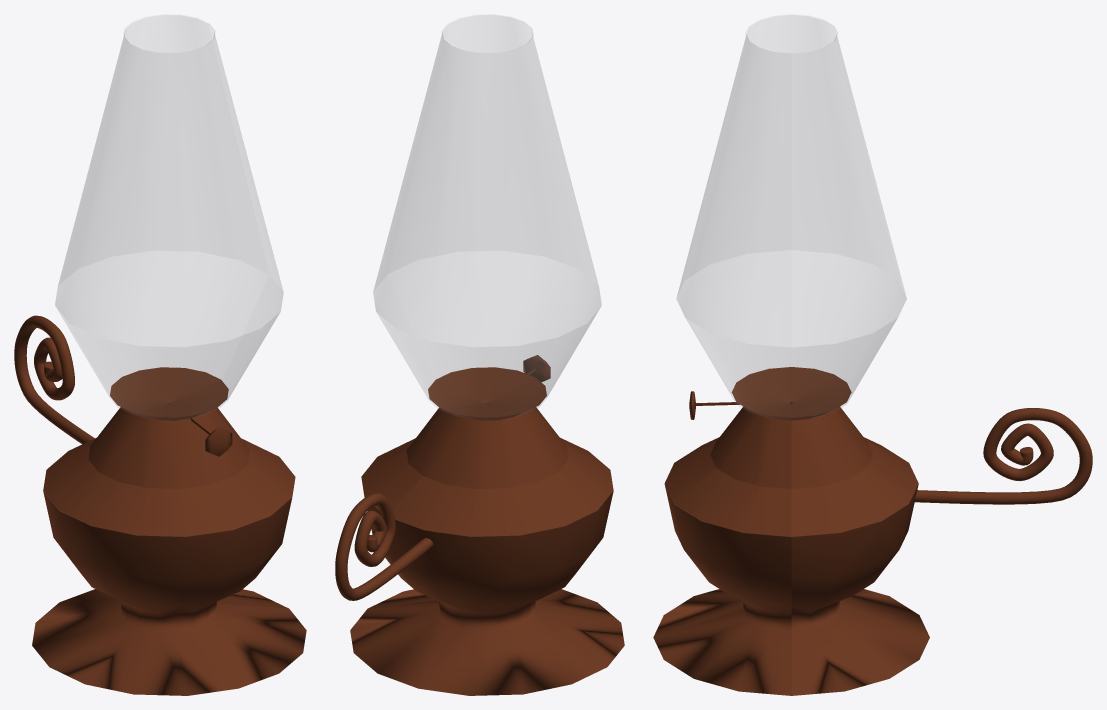
File: lantern3ds.fbx
The picture shows the model from 3 angles, left to right: view 1: azimuth 30°, elevation 25°; view 2: azimuth 150°, elevation 25°; view 3: azimuth 270°, elevation 25°; orthographic projection.
Visible parts, largest first — view 1: Form7, Form10, Form19, Form11, Form12, Default, Form18; view 2: Form7, Form10, Form19, Form11, Form12, Default, Form18; view 3: Form7, Form10, Form19, Form11, Form12, Default.
Boxes of the visible parts, box(x1,y1,x2,y2) form: Form7: box(55, 14, 283, 346); Form10: box(32, 367, 306, 695); Form19: box(55, 251, 282, 419); Form11: box(43, 368, 295, 536); Form12: box(88, 407, 250, 488); Default: box(14, 315, 94, 444); Form18: box(205, 427, 232, 456); Form7: box(373, 14, 600, 346); Form10: box(350, 367, 624, 695); Form19: box(374, 251, 600, 419); Form11: box(361, 368, 613, 536); Form12: box(406, 407, 568, 488); Default: box(335, 493, 439, 600); Form18: box(523, 355, 550, 382); Form7: box(677, 14, 906, 346); Form10: box(653, 367, 929, 695); Form19: box(677, 250, 905, 419); Form11: box(664, 367, 918, 536); Form12: box(710, 406, 872, 488); Default: box(910, 408, 1092, 504).
Size of the model in its own units: 18.01 by 43.35 by 28.59.
